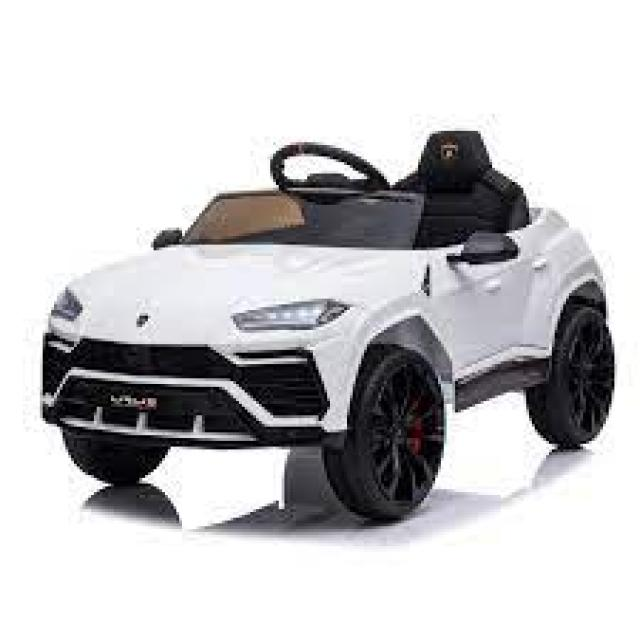Car: (37, 128, 614, 523)
